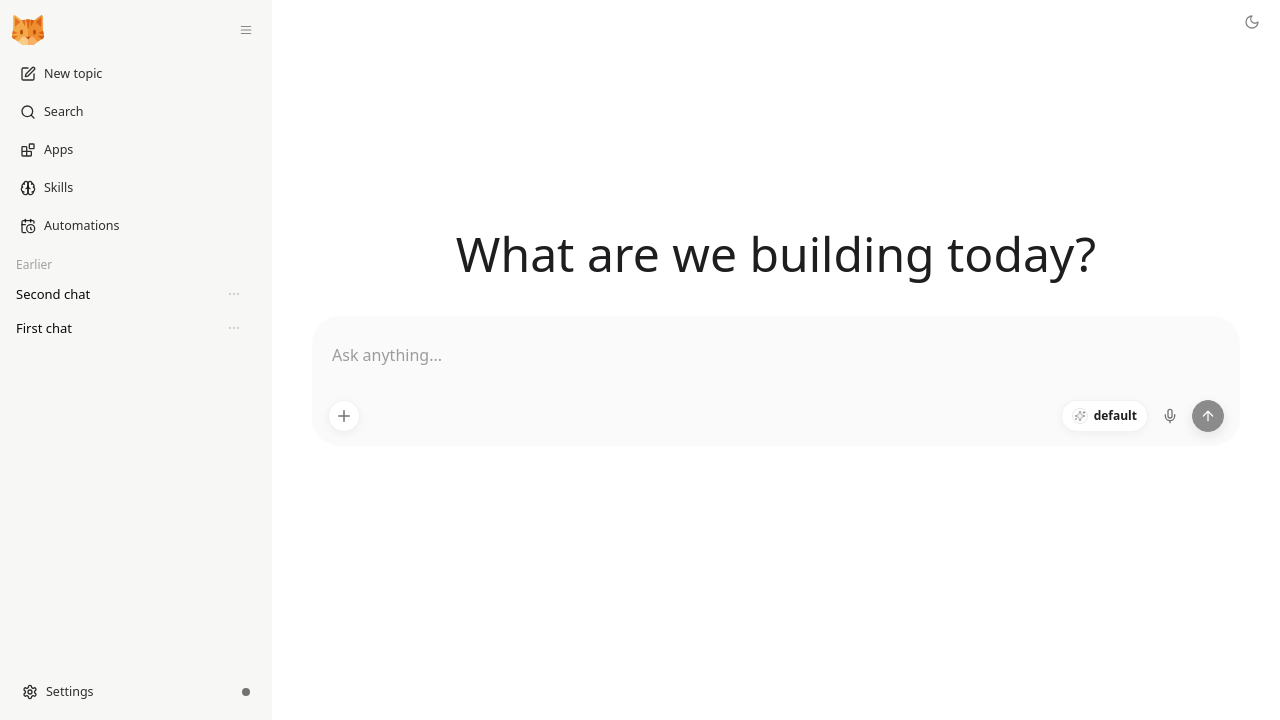
App layout › switches to the next session when deleting the active chat
The width and height of the screenshot is (1280, 720).
Expected: the button "First chat" is shown, 16,312 -> 190,344
Press the mouse on the button named "Topic actions for First chat" at (234, 328), box 222,316 -> 246,340
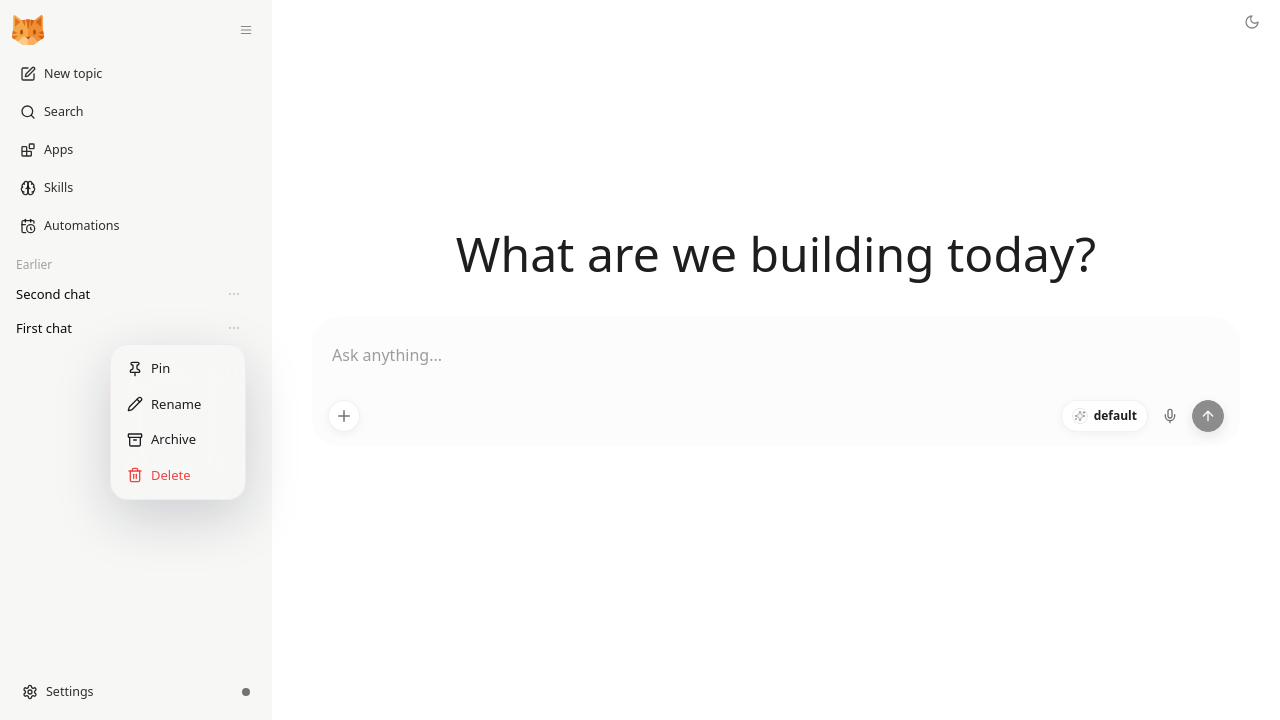
Click the menu item "Delete" at (159, 474), box 127,466 -> 190,484
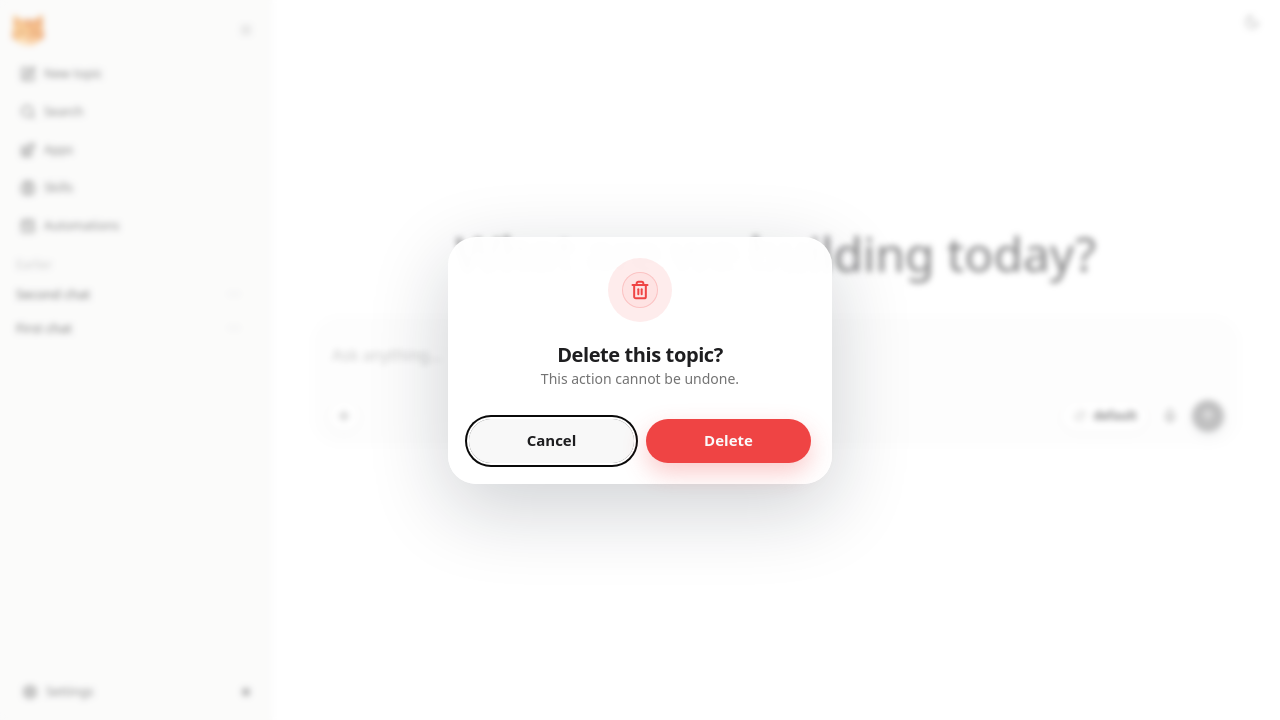
Expected: the heading "Delete this topic?" is shown, 557,342 -> 723,366
Click the button "Delete" at (728, 440), box 646,418 -> 811,462
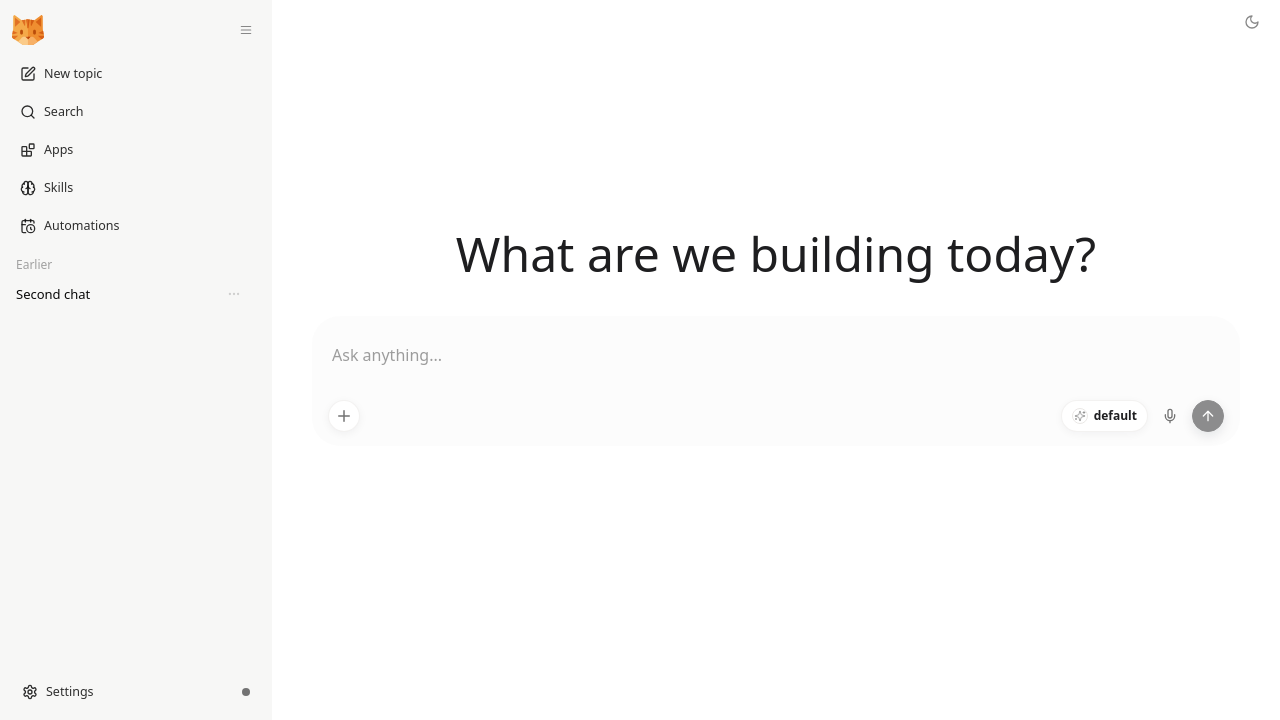
Expected: the button "Second chat" is shown, 16,278 -> 190,310
Expected: the heading "Delete this topic?" is gone
